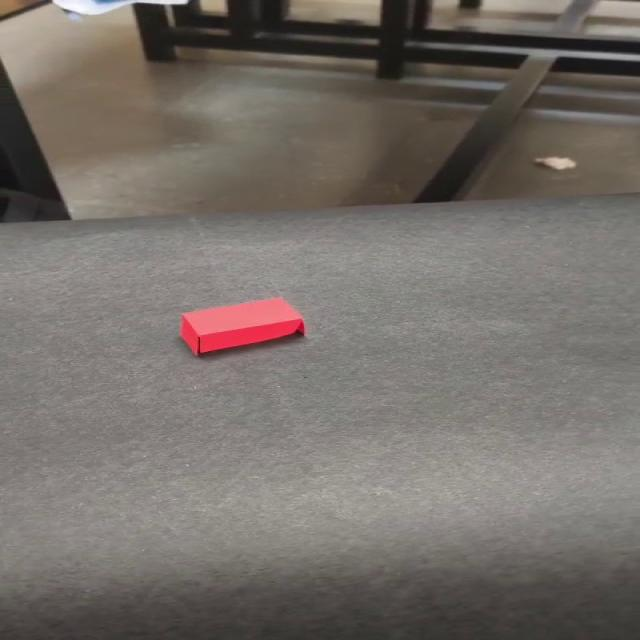red block: (178, 296, 306, 356)
